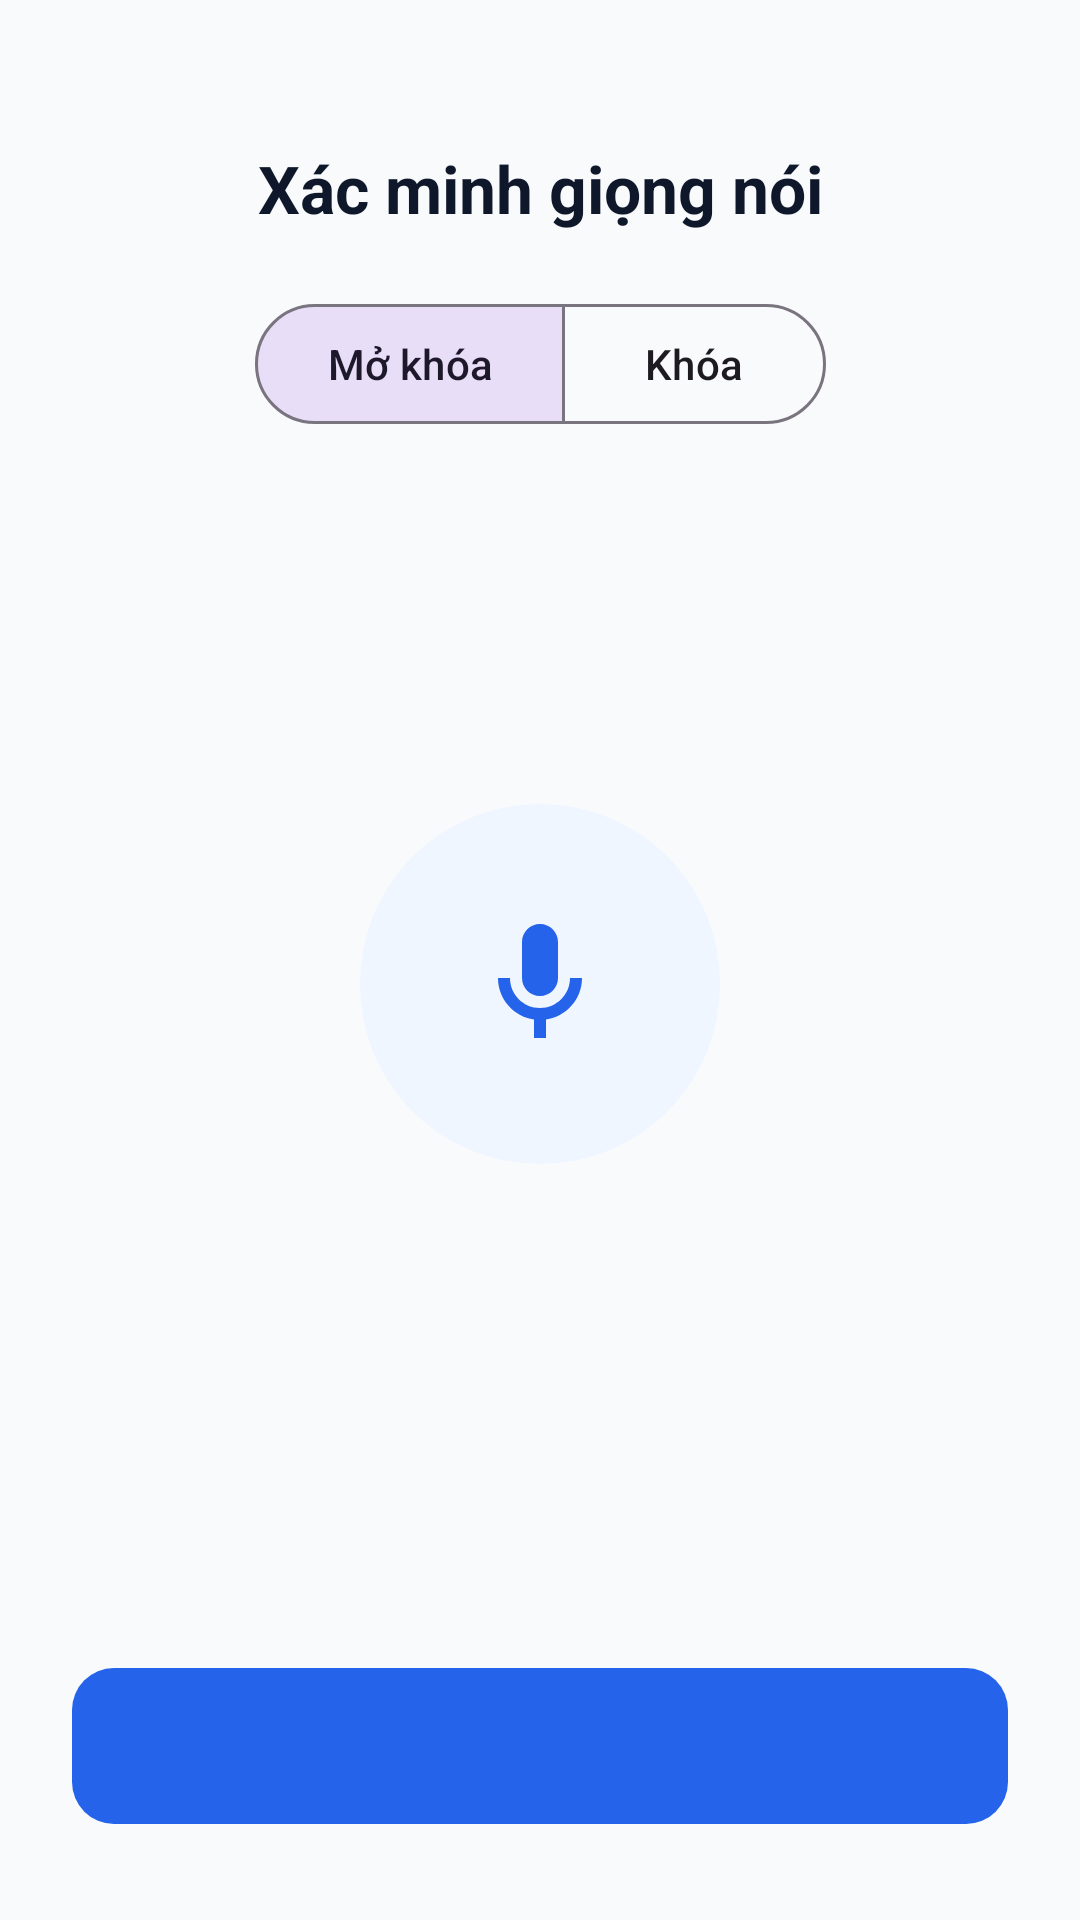

Where to tap for icons on this 1080 x 1920 app screen, as (x,y):
mic: (540,984)
